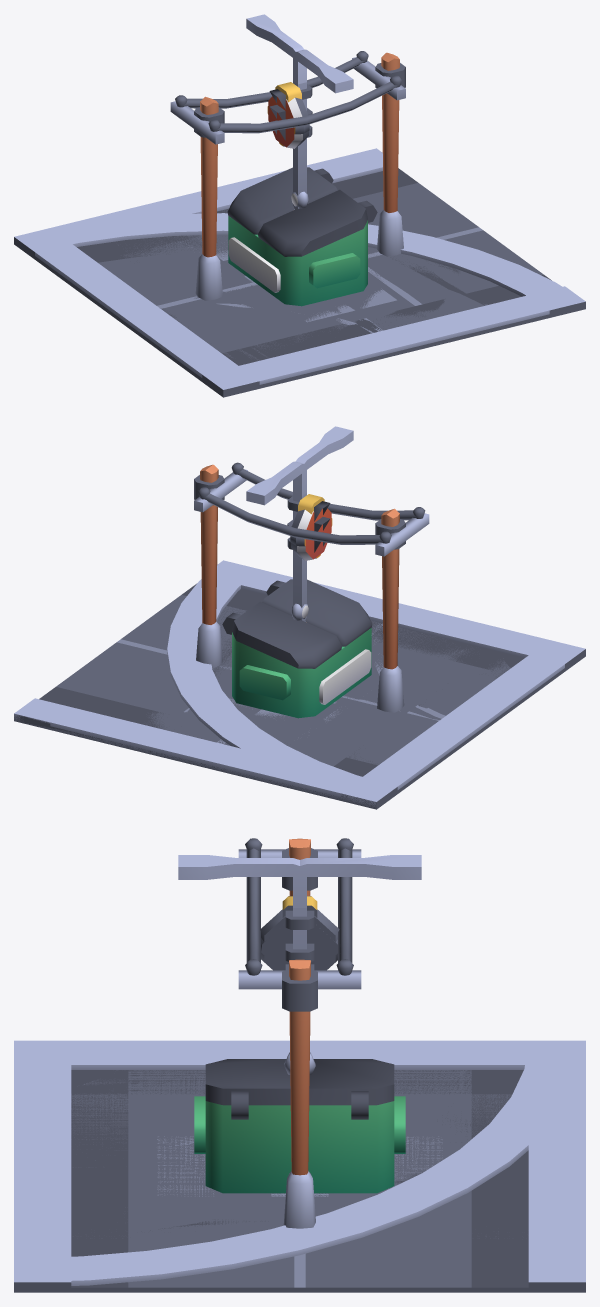
File: world_roads.glb
The picture shows the model from 3 angles, top to bottom: view 1: azimuth 30°, elevation 25°; view 2: azimuth 150°, elevation 25°; view 3: azimuth 270°, elevation 25°; orthographic projection. The views are drawn at different scales.
Parts seen in each view (by area): view 1: road-straight, road-bend, electricity-pole, road-end, road-crossroad, road-intersection, road-crossing, dumpster, lid-right, lid-left, light-square-double, traffic-light (+2 smaller); view 2: road-straight, road-end, road-crossroad, road-bend, electricity-pole, road-intersection, dumpster, lid-left, lid-right, light-square-double, light-square, road-crossing (+2 smaller); view 3: road-straight, road-end, road-bend, dumpster, road-crossroad, electricity-pole, road-intersection, light-square-double, lid-left, lid-right, light-square, road-crossing (+3 smaller).
Boxes of the visible parts, x1,y1,x2,y2 form: road-straight: (15,148,549,384); road-bend: (16,213,572,381); electricity-pole: (170,51,405,300); road-end: (17,169,547,380); road-crossroad: (14,149,569,385); road-intersection: (14,148,585,397); road-crossing: (79,184,517,365); dumpster: (228,168,377,306); lid-right: (258,189,367,256); lid-left: (227,167,337,234); light-square-double: (246,16,353,93); traffic-light: (269,81,312,209); road-straight: (14,560,583,809); road-end: (40,561,577,798); road-crossroad: (14,560,580,809); road-bend: (167,579,581,777); electricity-pole: (194,462,429,712); road-intersection: (14,564,585,809); dumpster: (222,580,371,718); lid-left: (232,601,341,668); lid-right: (262,579,372,646); light-square-double: (246,426,353,505); light-square: (247,462,306,620); road-crossing: (58,590,466,774); road-straight: (14,1040,585,1287); road-end: (14,1040,584,1287); road-bend: (14,1042,583,1285); dumpster: (194,1091,405,1193); road-crossroad: (14,1040,585,1287); electricity-pole: (238,838,361,1228); road-intersection: (14,1041,585,1292); light-square-double: (178,855,421,907); lid-left: (309,1059,394,1105); lid-right: (205,1059,290,1105); light-square: (293,855,421,907); road-crossing: (71,1070,493,1287).
Bounding box in the file's own units: 1 × 0.6 × 1.
1 material, 1 textured.
